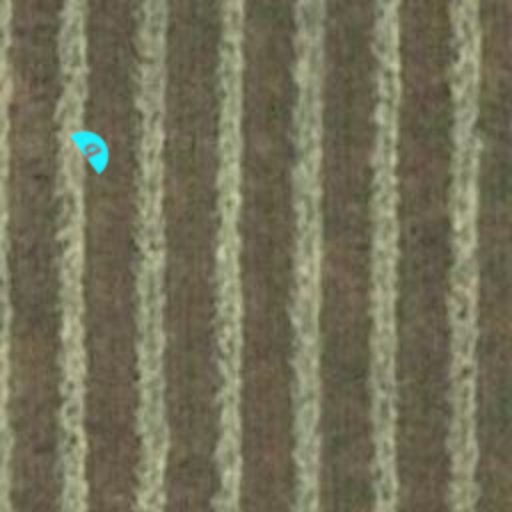semicircle: (60, 114, 128, 182)
